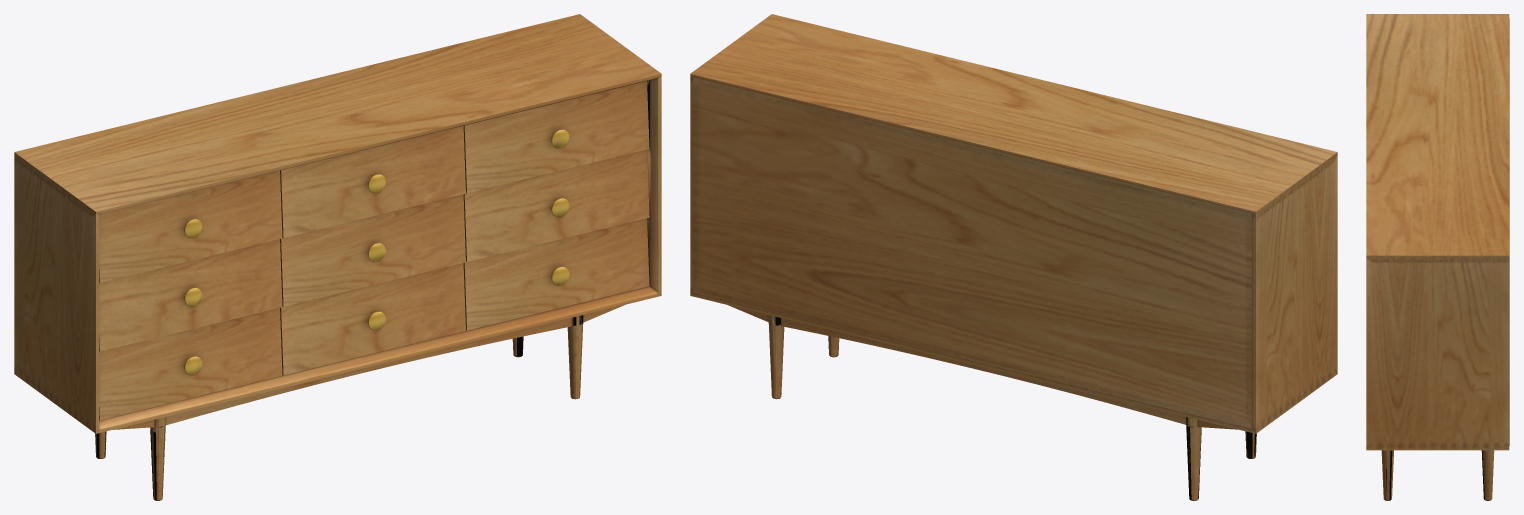
Rendered from raw_model.obj.
3 renders of one model, left to right at view 1: azimuth 30°, elevation 25°; view 2: azimuth 150°, elevation 25°; view 3: azimuth 270°, elevation 25°, orthographic. The views are drawn at different scales.
Visible parts, largest first — view 1: solid_002, solid_001; view 2: solid_002; view 3: solid_002.
Part boxes in pixels (x1=…): solid_002: x1=14, y1=14, x2=661, y2=500; solid_001: x1=184, y1=129, x2=569, y2=375; solid_002: x1=690, y1=14, x2=1337, y2=500; solid_002: x1=1366, y1=14, x2=1509, y2=500.
Bounding box in the file's own units: 1.6 × 0.8501 × 0.4003.
1 material, 1 textured.
